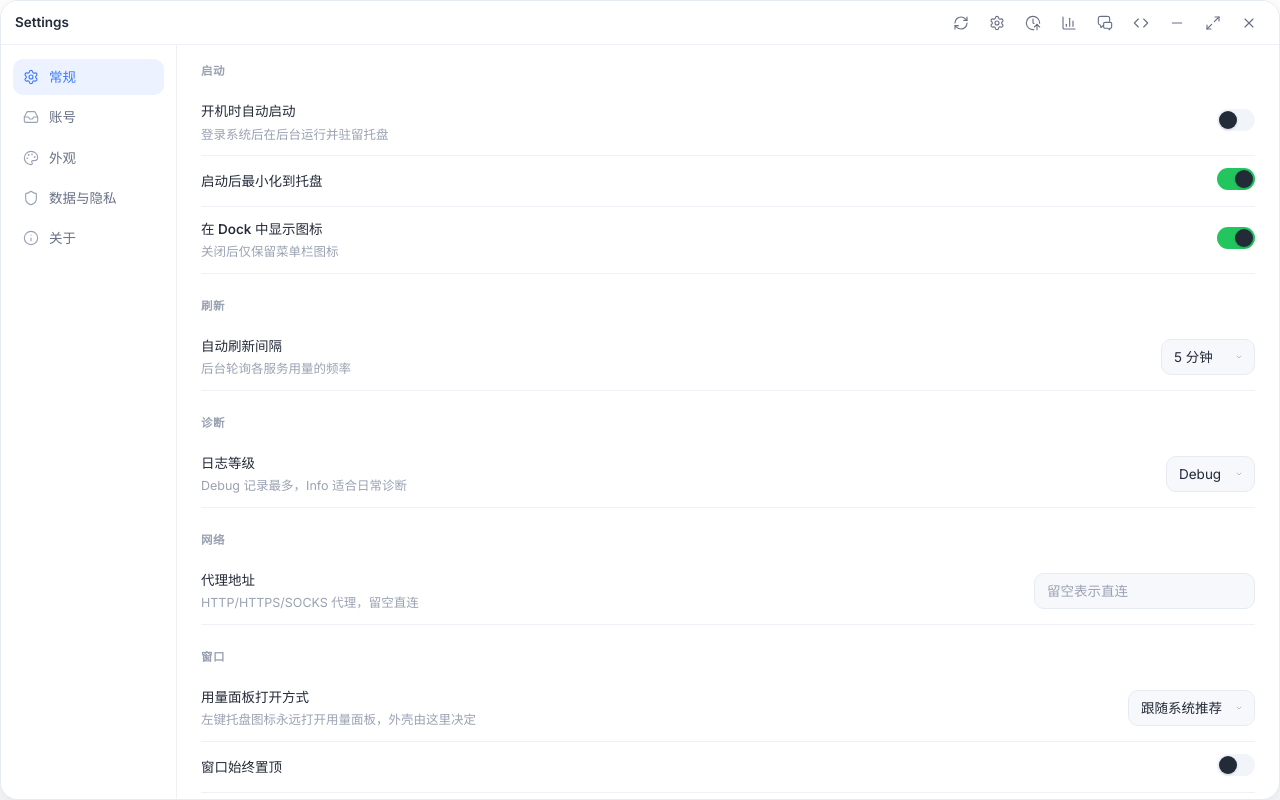
Test: SettingsView › add account button opens service picker in AccountDialog
Click the button with test id "settings-plugin-nav-accounts": (88, 117) [13,99,164,136]
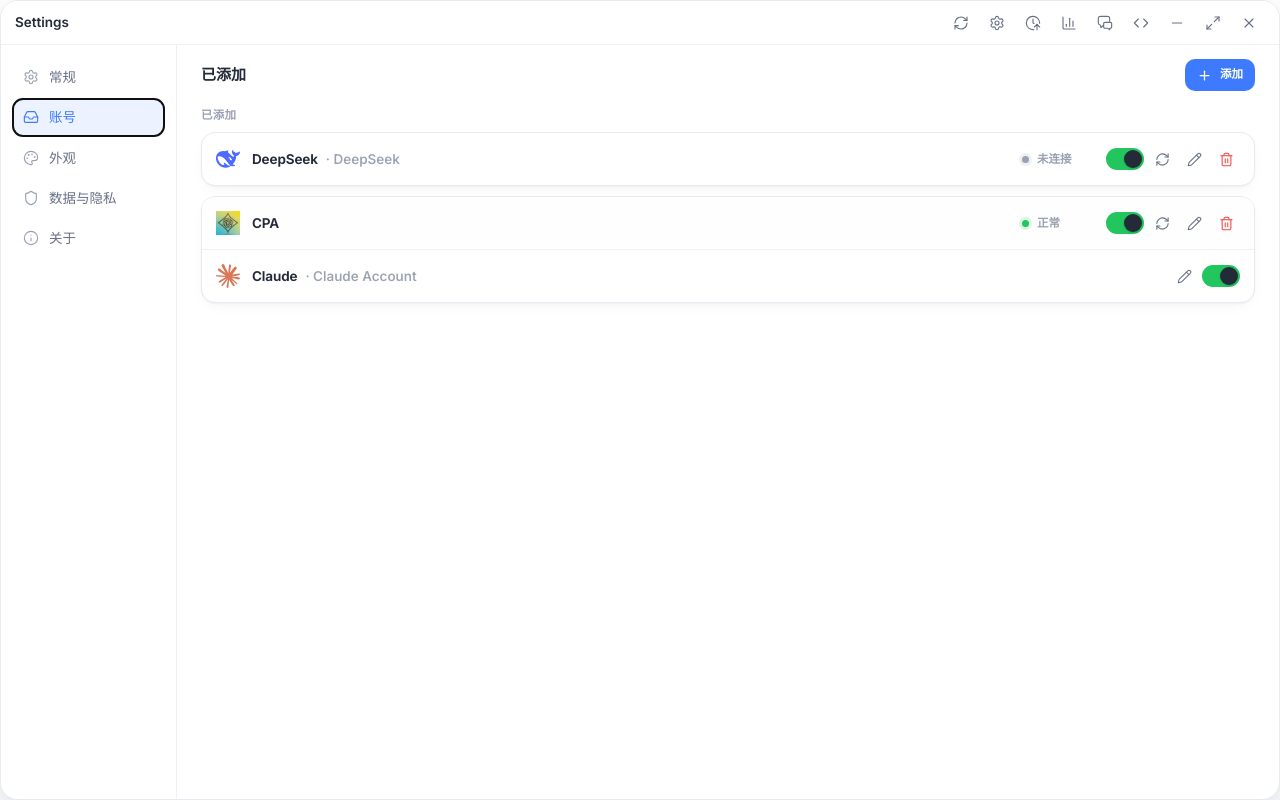
Check: the button "添加" is shown, box [1185,59,1255,91]
